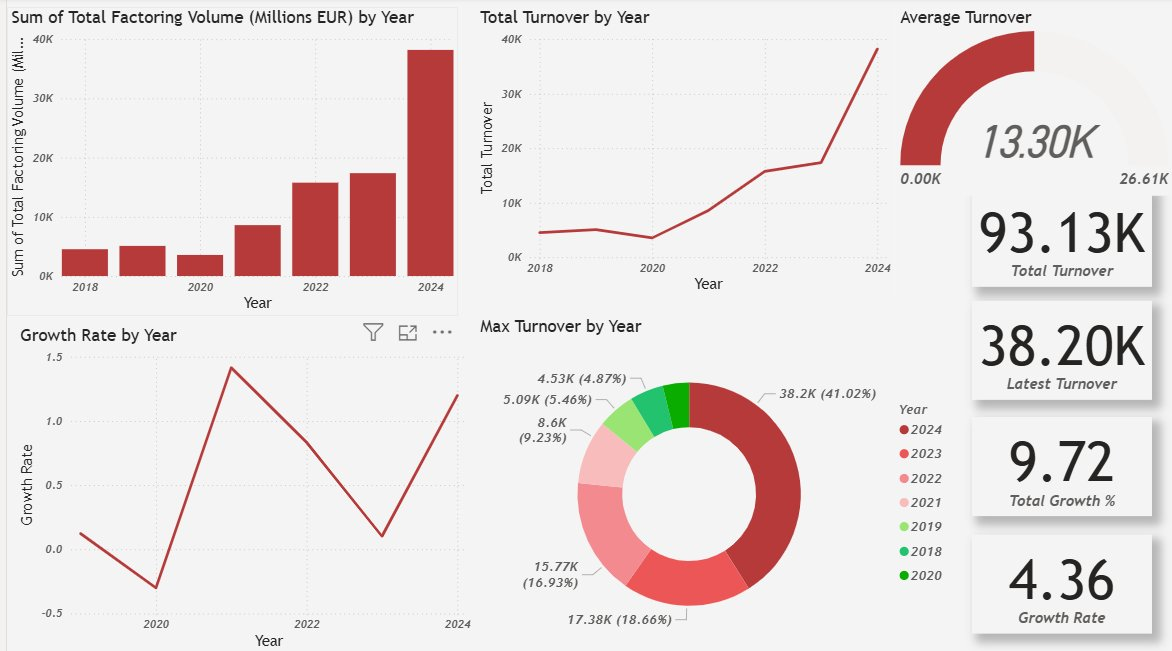

The dashboard page shown, as its layout file describes it:
{"tool":"powerbi","page":{"name":"Page 1","canvas":[1280,720],"ordinal":0},"visuals":[{"type":"lineChart","fields":{"Category":["Factoring Turnover by Country.Year"],"Y":["Factoring Turnover by Country.Total Turnover"]},"box":[514.6,11,461.1,318.4],"z":0},{"type":"lineChart","fields":{"Category":["Factoring Turnover by Country.Year"],"Y":["Factoring Turnover by Country.Growth Rate"]},"box":[9.6,359.5,505,360.9],"z":1000},{"type":"card","fields":{"Values":["Factoring Turnover by Country.Total Turnover"]},"box":[1059.4,208.6,197.6,109.8],"z":2000},{"type":"card","fields":{"Values":["Total Factoring Volume by Count.Latest Turnover"]},"box":[1059.4,333.4,197.6,108.4],"z":3000},{"type":"card","fields":{"Values":["Factoring Turnover by Country.Total Growth %"]},"box":[1059.4,461.1,197.6,108.4],"z":4000},{"type":"columnChart","fields":{"Category":["Factoring Turnover by Country.Year"],"Y":["Sum(Factoring Turnover by Country.Total Factoring Volume (Millions EUR))"]},"box":[0,11,495.4,338.9],"z":5000},{"type":"donutChart","fields":{"Y":["Factoring Turnover by Country.Max Turnover"],"Category":["Factoring Turnover by Country.Year"]},"box":[514.6,349.9,526.9,370.5],"z":6000},{"type":"card","fields":{"Values":["Factoring Turnover by Country.Growth Rate"]},"box":[1059.4,590.1,197.6,108.4],"z":7000},{"type":"gauge","fields":{"Y":["Factoring Turnover by Country.Average Turnover"]},"box":[975.6,11,304.6,207.2],"z":8000}]}

Visuals, with their boxes in screenshot pixels (x1, y1, x2, y2), scaled from the page's 1280x720 canvas onto the 1172x651 screenshot:
lineChart - Factoring Turnover by Country.Year x Factoring Turnover by Country.Total Turnover: box=[471, 10, 893, 298]
lineChart - Factoring Turnover by Country.Year x Factoring Turnover by Country.Growth Rate: box=[9, 325, 471, 650]
card - Factoring Turnover by Country.Total Turnover: box=[970, 189, 1151, 288]
card - Total Factoring Volume by Count.Latest Turnover: box=[970, 301, 1151, 399]
card - Factoring Turnover by Country.Total Growth %: box=[970, 417, 1151, 515]
columnChart - Factoring Turnover by Country.Year x Sum(Factoring Turnover by Country.Total Factoring Volume (Millions EUR)): box=[0, 10, 454, 316]
donutChart - Factoring Turnover by Country.Max Turnover x Factoring Turnover by Country.Year: box=[471, 316, 954, 650]
card - Factoring Turnover by Country.Growth Rate: box=[970, 534, 1151, 632]
gauge - Factoring Turnover by Country.Average Turnover: box=[893, 10, 1171, 197]
